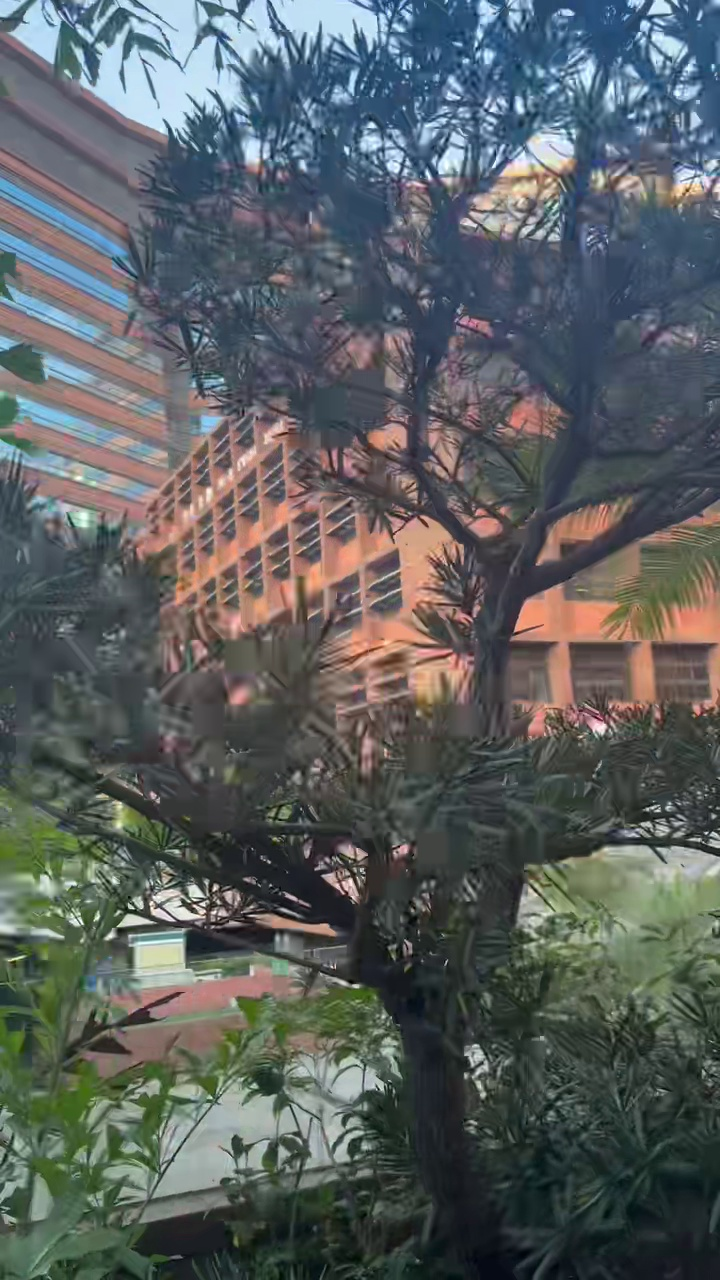Podocarpus macrophyllus: (48, 0, 719, 1279)
